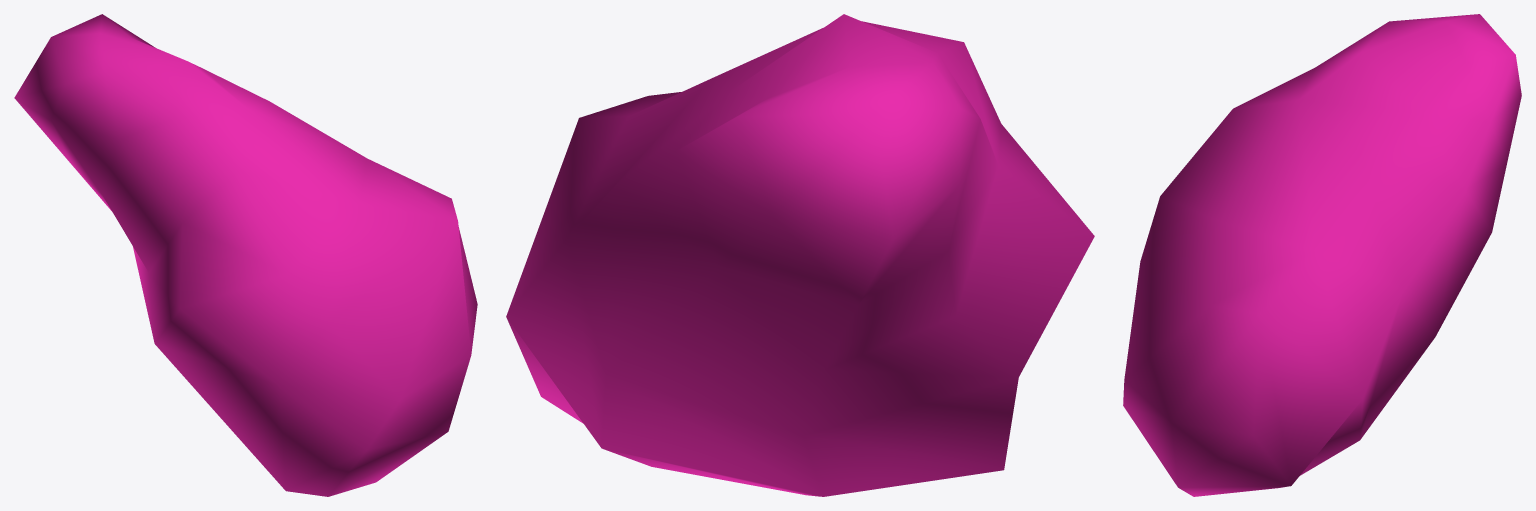
File: Rock.FBX
3 views of the same model, side by side, from view 1: azimuth 30°, elevation 25°; view 2: azimuth 150°, elevation 25°; view 3: azimuth 270°, elevation 25° (orthographic). The views are drawn at different scales.
Visible parts, largest first — view 1: Rock; view 2: Rock; view 3: Rock.
Part boxes in pixels (x1,y1,x2,y2): Rock: (14,14,477,496); Rock: (506,14,1094,496); Rock: (1123,14,1521,496).
Bounding box in the file's own units: 8.68 × 9.59 × 8.66.
